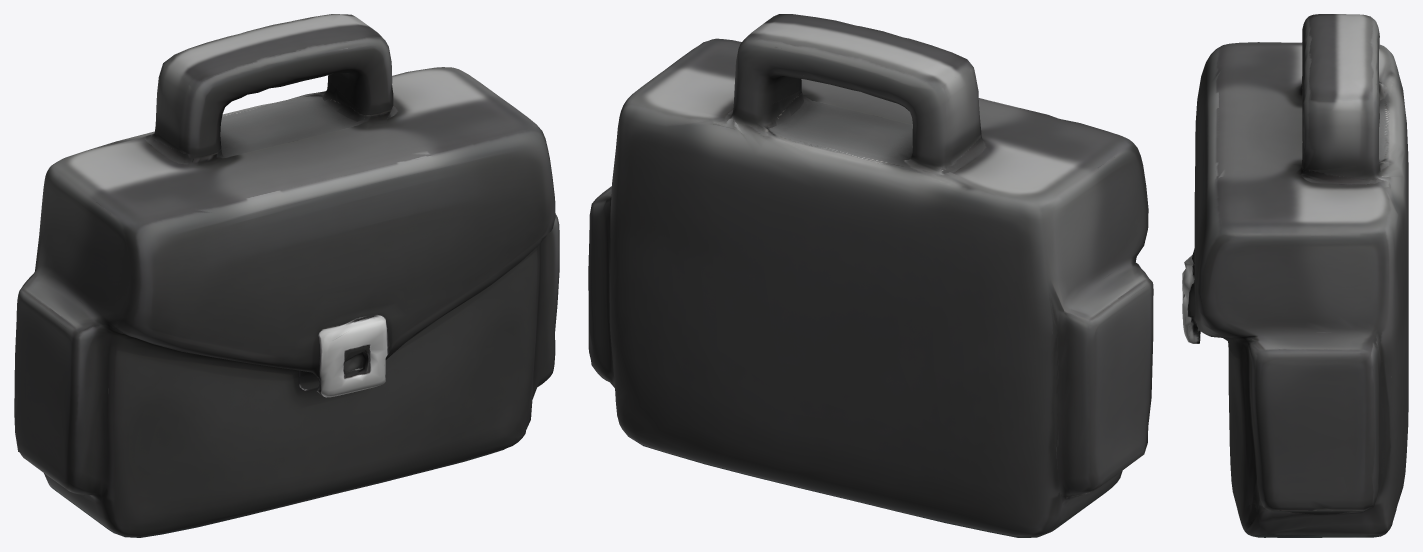
The model's file is Meshy_AI_Briefcase_Icon_0111140018_texture.fbx.
3 renders of one model, left to right at view 1: azimuth 30°, elevation 25°; view 2: azimuth 150°, elevation 25°; view 3: azimuth 270°, elevation 25°, orthographic. The views are drawn at different scales.
Parts seen in each view (by area): view 1: Mesh0; view 2: Mesh0; view 3: Mesh0.
Boxes of the visible parts, x1,y1,x2,y2 form: Mesh0: (14, 14, 559, 537); Mesh0: (588, 14, 1153, 537); Mesh0: (1182, 14, 1408, 537).
Bounding box in the file's own units: 192 × 159 × 80.86.
Materials: 1 (1 with a texture image).
